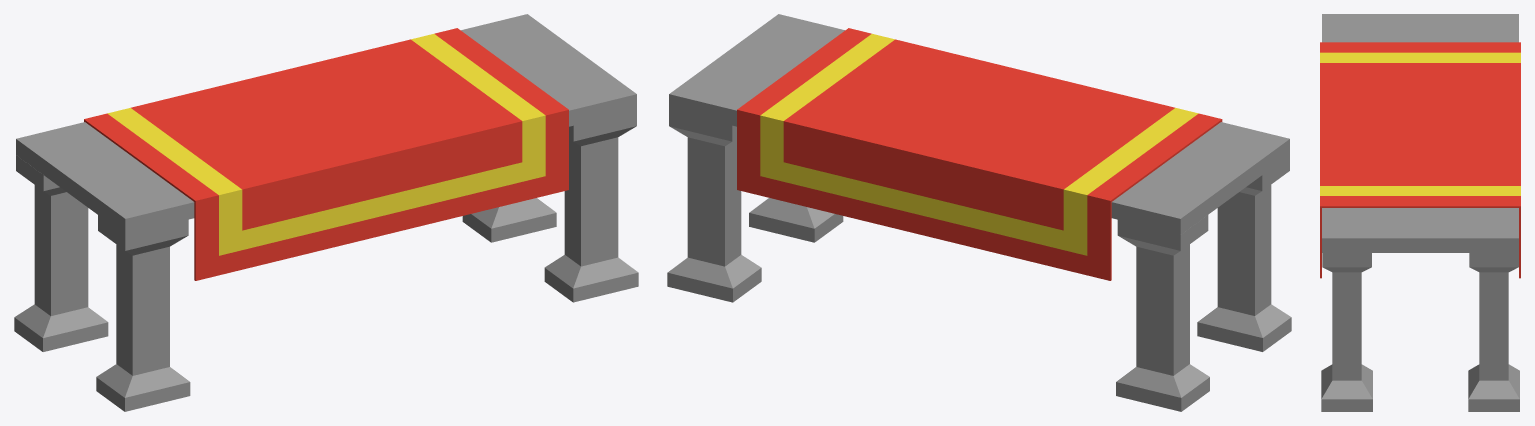
File: stone-table-v1-0-life-size.glb
The picture shows the model from 3 angles, left to right: view 1: azimuth 30°, elevation 25°; view 2: azimuth 150°, elevation 25°; view 3: azimuth 270°, elevation 25°; orthographic projection. The views are drawn at different scales.
Visible parts, largest first — view 1: group1347063553, group724155563, group240000774, group653376173, group1548208899, group485443804; view 2: group1347063553, group724155563, group1548208899, group485443804, group240000774, group653376173; view 3: group1347063553, group724155563, group485443804, group653376173.
Boxes of the visible parts, x1,y1,x2,y2 form: group1347063553: (84,28,568,280); group724155563: (16,14,636,234); group240000774: (96,215,190,411); group653376173: (544,110,638,302); group1548208899: (14,155,108,351); group485443804: (462,198,556,242); group1347063553: (737,28,1222,280); group724155563: (669,14,1289,234); group1548208899: (1116,215,1209,411); group485443804: (667,110,761,302); group240000774: (1197,155,1291,351); group653376173: (749,198,843,242); group1347063553: (1320,42,1520,278); group724155563: (1322,14,1518,252); group485443804: (1468,253,1519,411); group653376173: (1321,253,1372,411).
Size of the model in its own units: 2.68 by 0.97 by 1.01.
